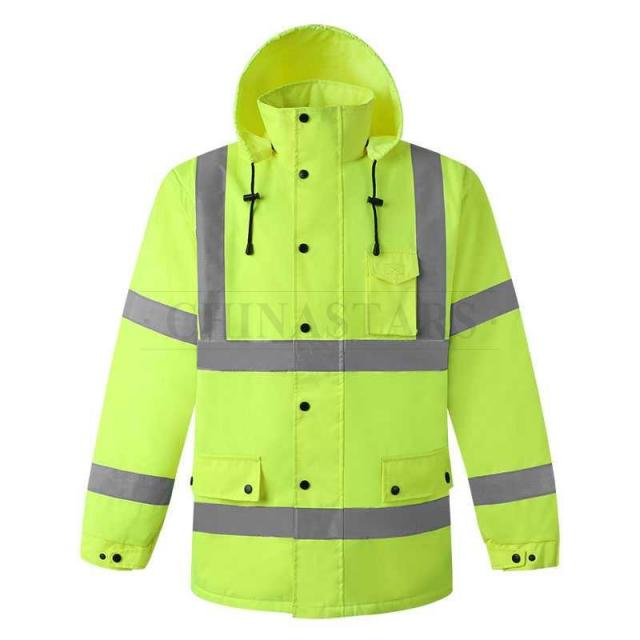Reflective-Jacket: (56, 120, 574, 622)
Safety-Helmet: (220, 19, 418, 151)
